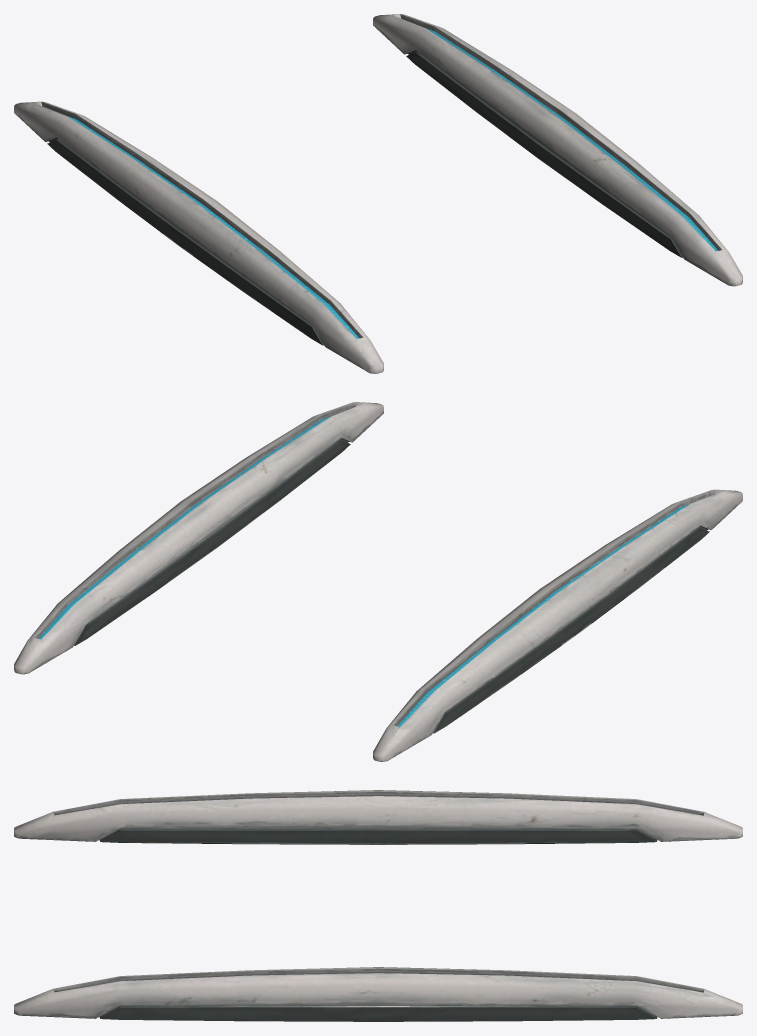
The model's file is portal.glb.
The picture shows the model from 3 angles, top to bottom: view 1: azimuth 30°, elevation 25°; view 2: azimuth 150°, elevation 25°; view 3: azimuth 270°, elevation 25°; orthographic projection.
Parts seen in each view (by area): view 1: static_prop_34|autoportal_frame_parts\obj\autoportal_frame.; view 2: static_prop_34|autoportal_frame_parts\obj\autoportal_frame.; view 3: static_prop_34|autoportal_frame_parts\obj\autoportal_frame..
Part boxes in pixels (bbox=[...]): static_prop_34|autoportal_frame_parts\obj\autoportal_frame.: bbox=[14, 14, 742, 373]; static_prop_34|autoportal_frame_parts\obj\autoportal_frame.: bbox=[14, 402, 742, 761]; static_prop_34|autoportal_frame_parts\obj\autoportal_frame.: bbox=[14, 790, 742, 1021].
Size of the model in its own units: 1.28 by 0.125 by 2.
1 material, 1 textured.
